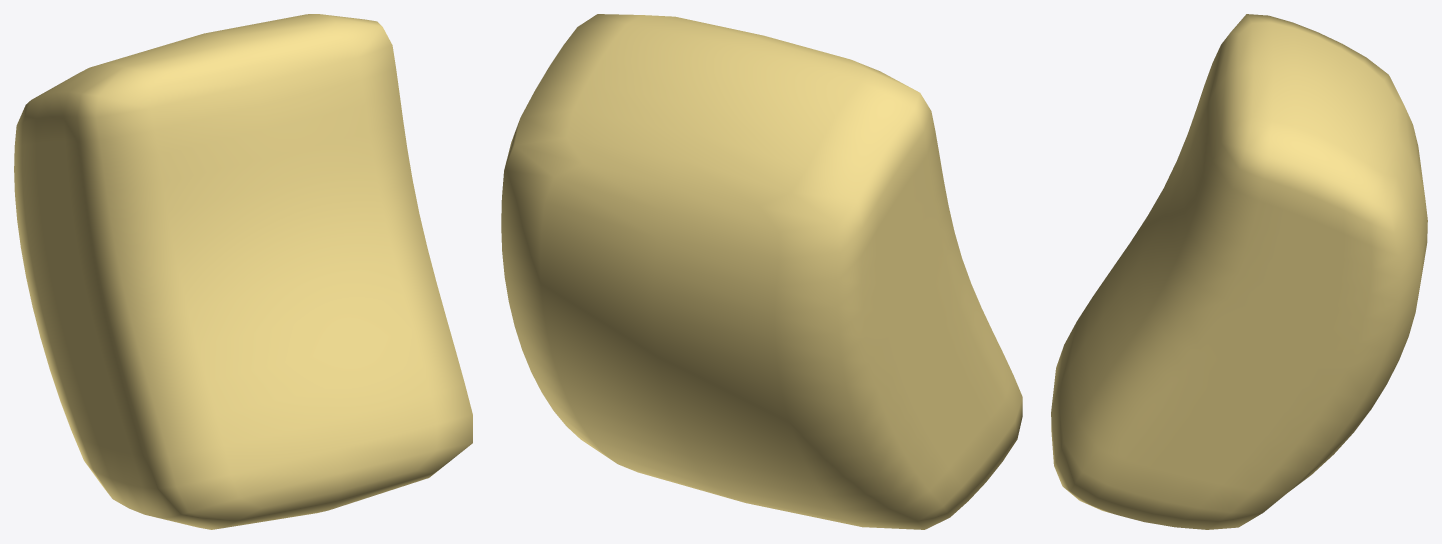
The picture shows the model from 3 angles, left to right: view 1: azimuth 30°, elevation 25°; view 2: azimuth 150°, elevation 25°; view 3: azimuth 270°, elevation 25°; orthographic projection. The views are drawn at different scales.
Visible parts, largest first — view 1: ZA_42df638181649dc8; view 2: ZA_42df638181649dc8; view 3: ZA_42df638181649dc8.
Boxes of the visible parts, x1,y1,x2,y2 form: ZA_42df638181649dc8: (14, 14, 472, 529); ZA_42df638181649dc8: (501, 14, 1022, 529); ZA_42df638181649dc8: (1051, 14, 1427, 529).
Bounding box in the file's own units: 0.0002 × 0.000262 × 0.000216.
